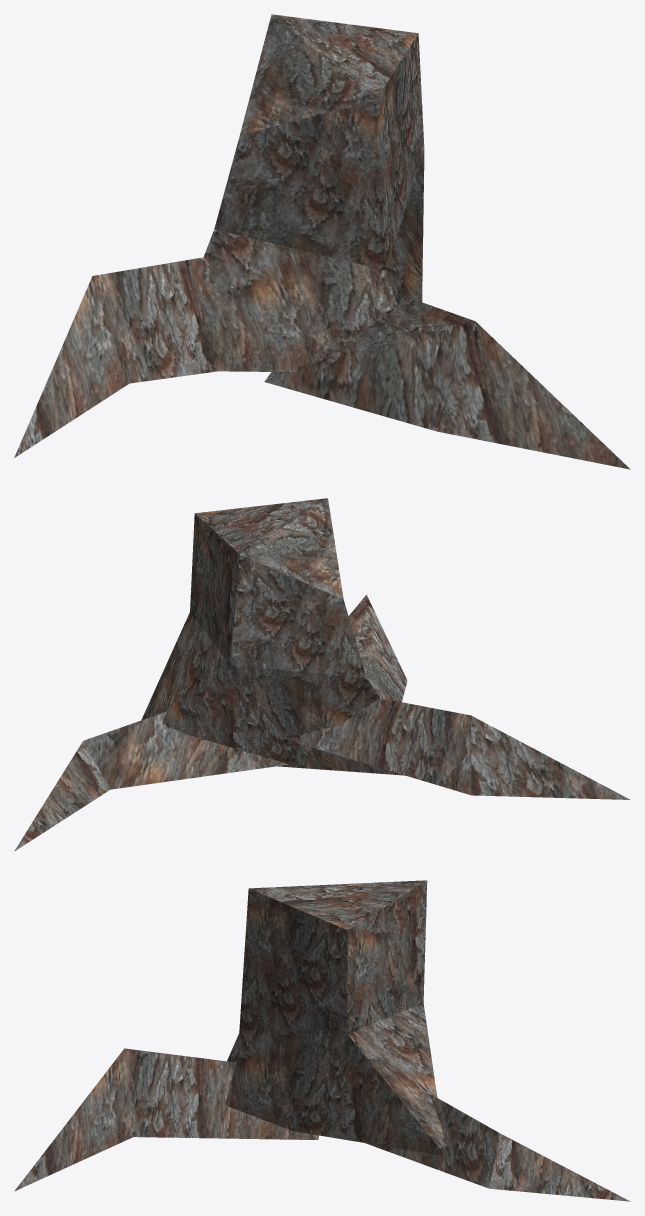
File: psx_treetrunk.glb
The picture shows the model from 3 angles, top to bottom: view 1: azimuth 30°, elevation 25°; view 2: azimuth 150°, elevation 25°; view 3: azimuth 270°, elevation 25°; orthographic projection. The views are drawn at different scales.
Visible parts, largest first — view 1: _MeshInstance3D_12; view 2: _MeshInstance3D_12; view 3: _MeshInstance3D_12.
Part boxes in pixels (bbox=[...]): _MeshInstance3D_12: bbox=[14, 14, 630, 469]; _MeshInstance3D_12: bbox=[14, 498, 630, 851]; _MeshInstance3D_12: bbox=[14, 880, 630, 1201].
Size of the model in its own units: 2.35 by 1.28 by 2.74.
1 material, 1 textured.
